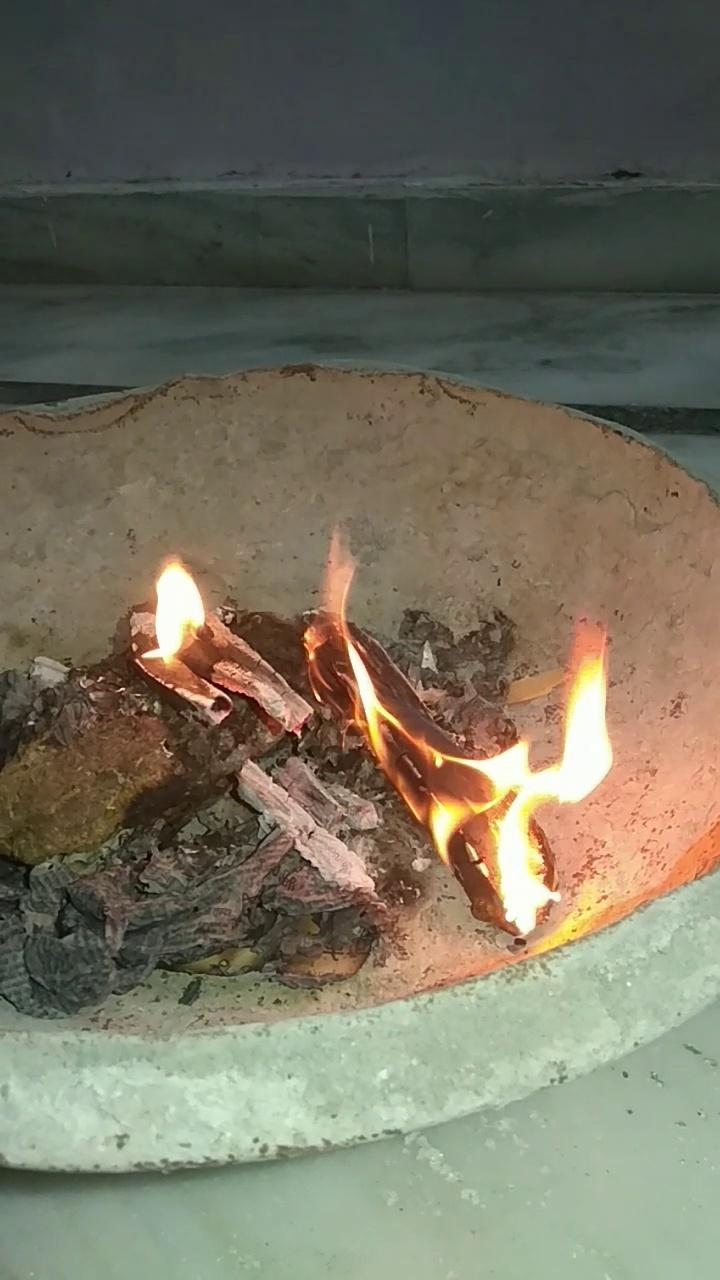fire: (308, 523, 620, 943), (114, 541, 235, 689)
